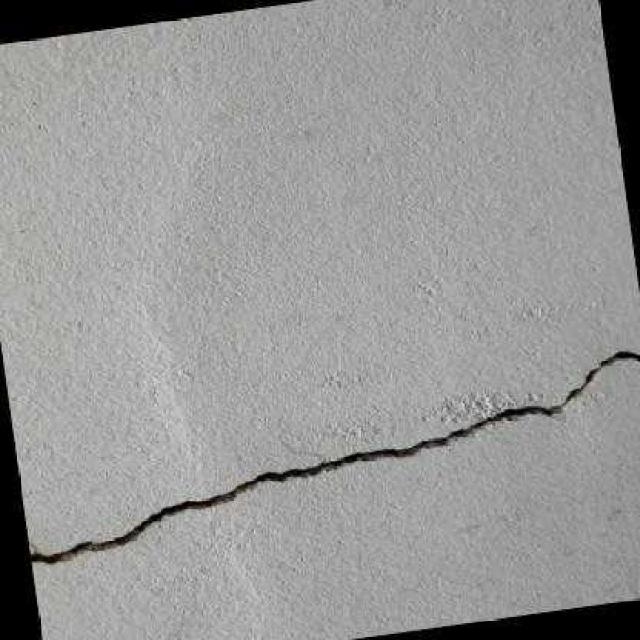D00: (28, 345, 640, 566)
